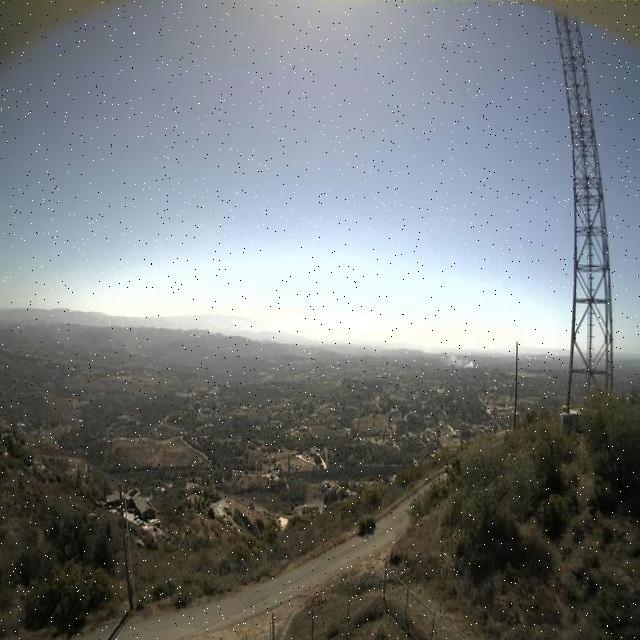smoke: (416, 340, 478, 369)
